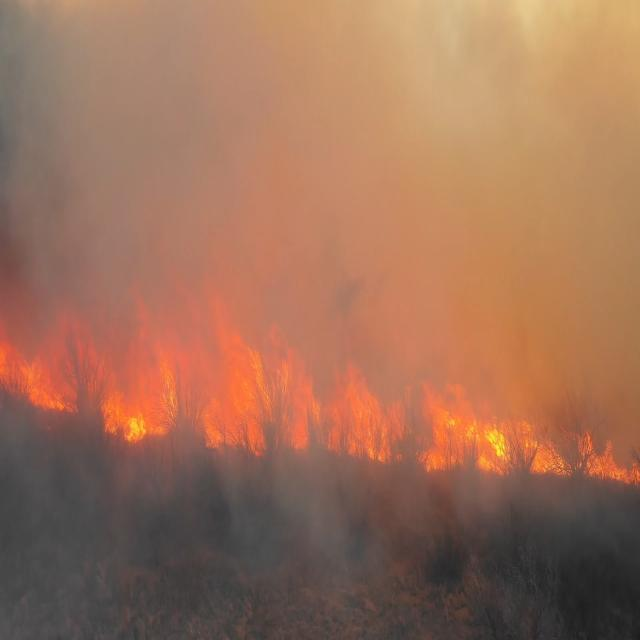Fire: (87, 312, 200, 437), (195, 316, 291, 450), (261, 362, 390, 459), (414, 378, 505, 477), (4, 316, 84, 417), (506, 427, 577, 472), (582, 429, 636, 482)
Smoke: (38, 0, 640, 257)
